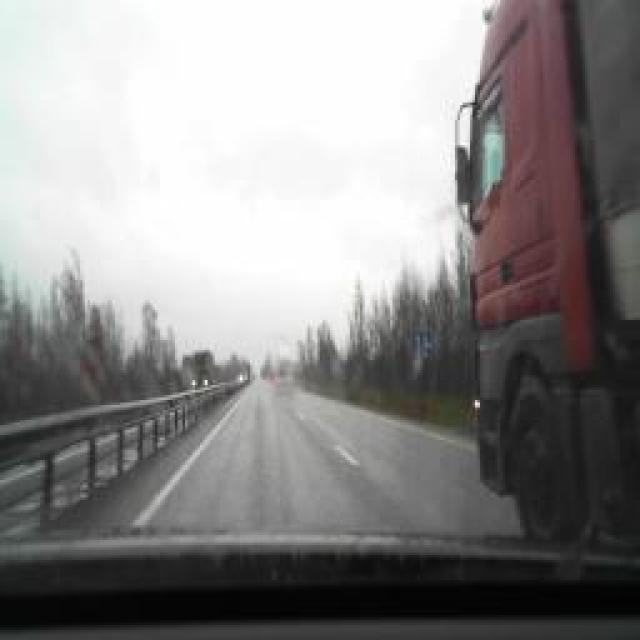sign: (412, 331, 432, 359)
